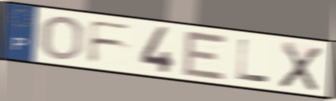4: (138, 24, 177, 75)
E: (180, 28, 230, 83)
F: (86, 19, 136, 65)
L: (235, 37, 271, 85)
O: (39, 14, 86, 62)
X: (277, 40, 325, 94)
